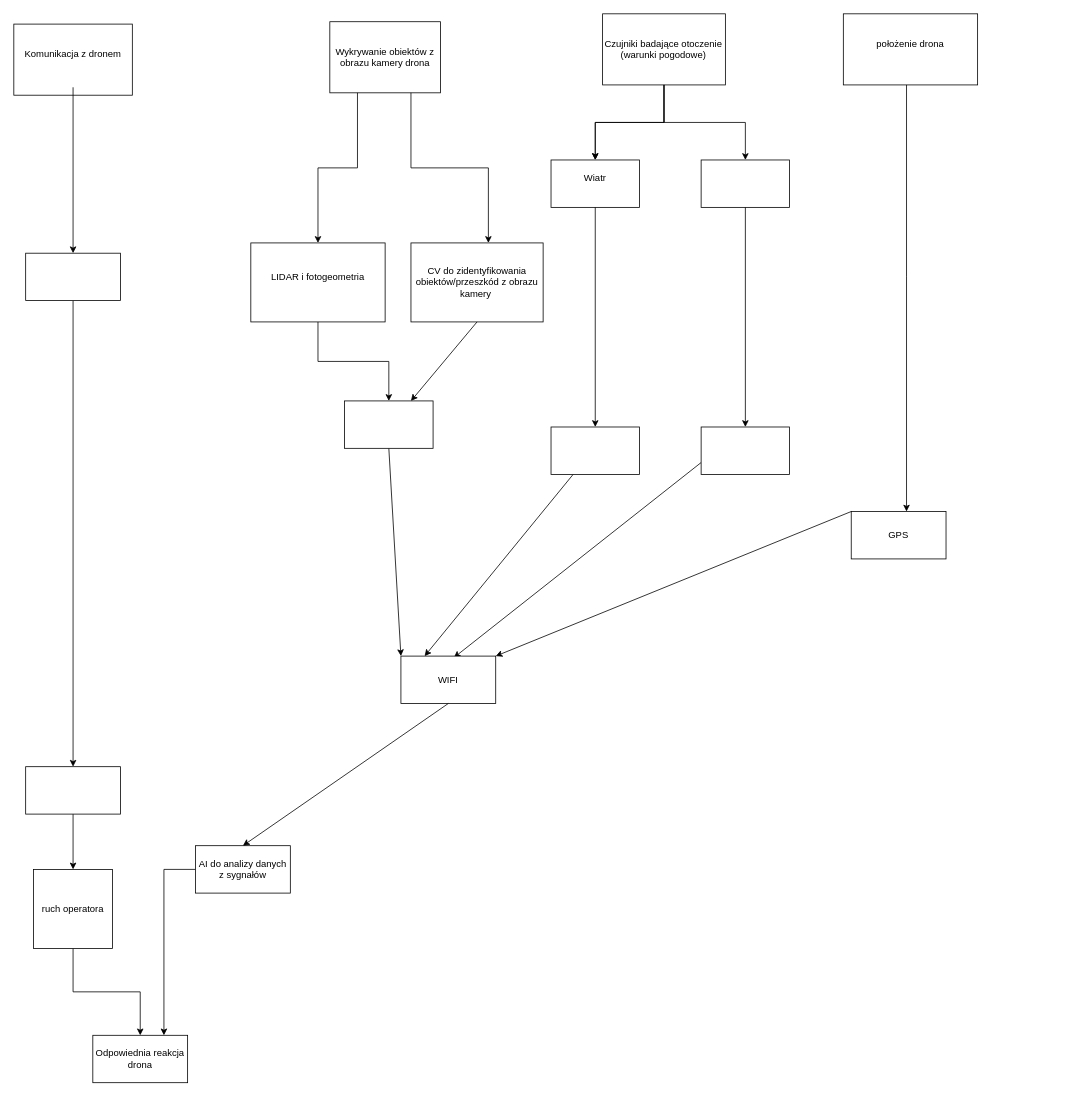
The diagram is 1078 pixels wide and 1097 high, and some of its shapes have lost their labels. The shapes that lost their labels are listed below. From the top down, each one's centre as x and y in pixels, then its label:
At (745,183): "deszcz/burza/grad".
At (72,276): "komunikacja przez sygnały radiowe".
At (388,424): "Oszacowanie odległości do przeszkody".
At (595,450): "czujnik wiatru".
At (745,450): "dane z map pogodowych".
At (72,790): "Pilot / joystick".
